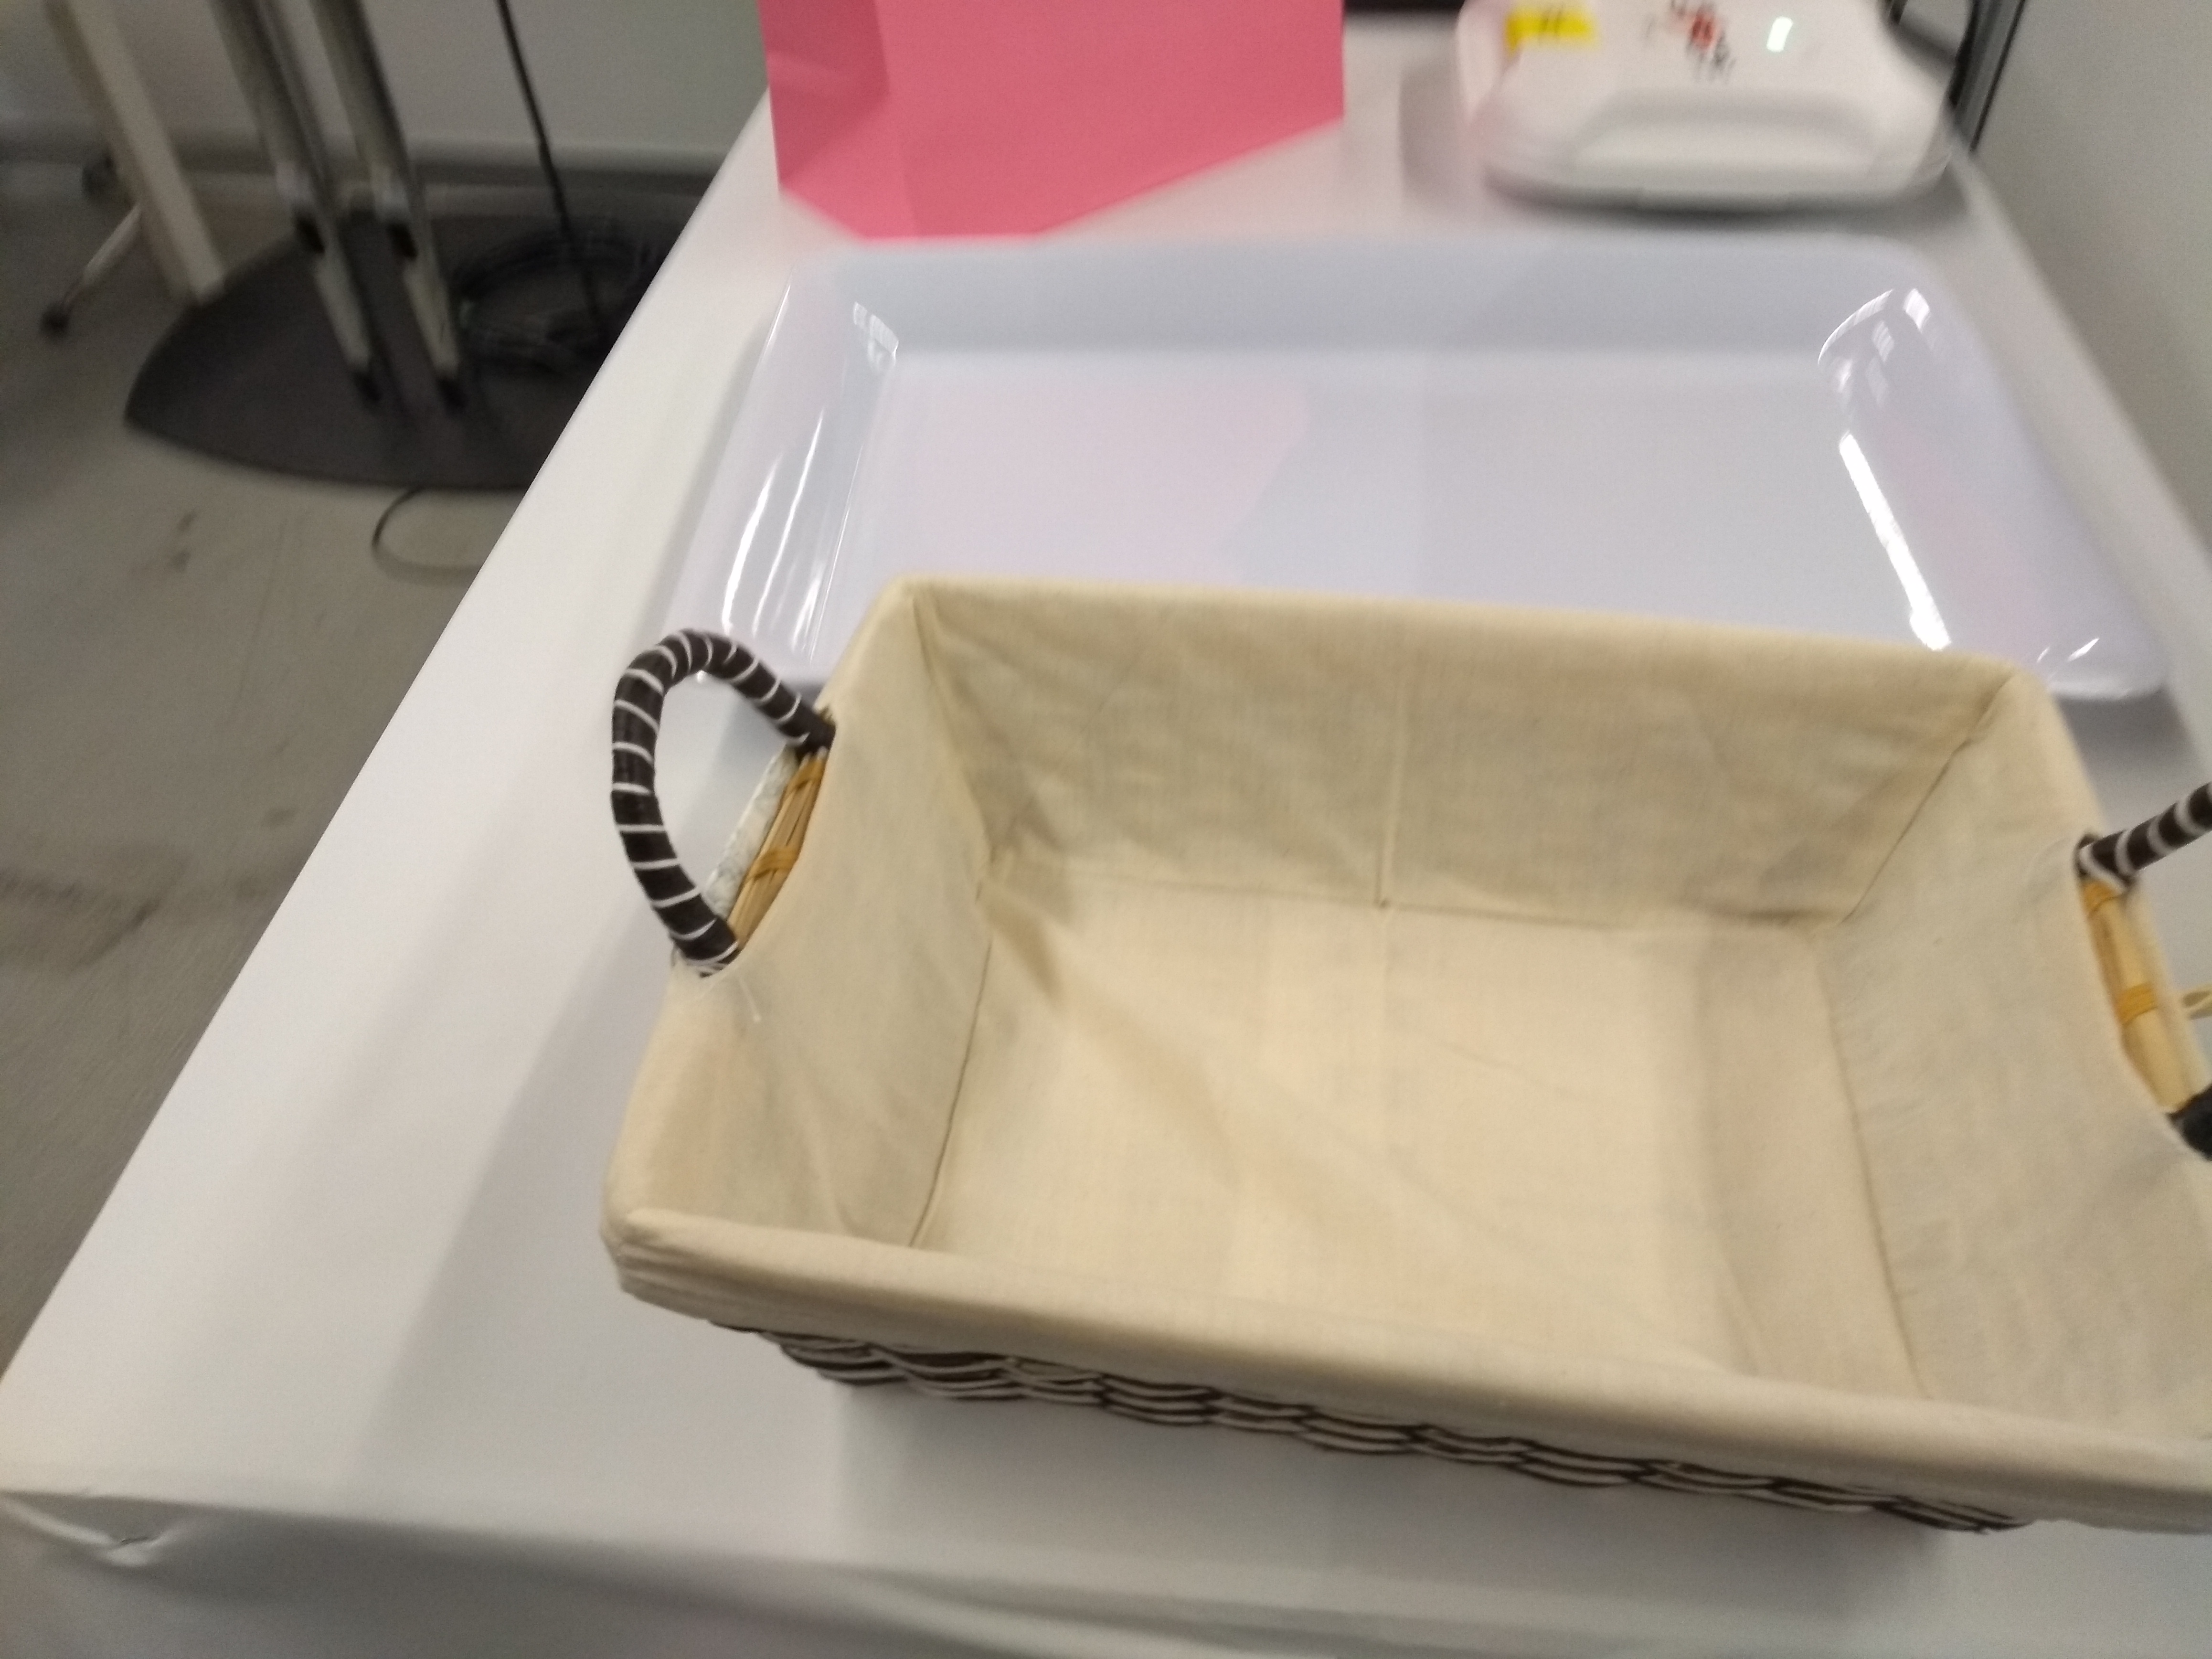basket: (599, 568, 2212, 1553)
tray: (688, 227, 2182, 767)
